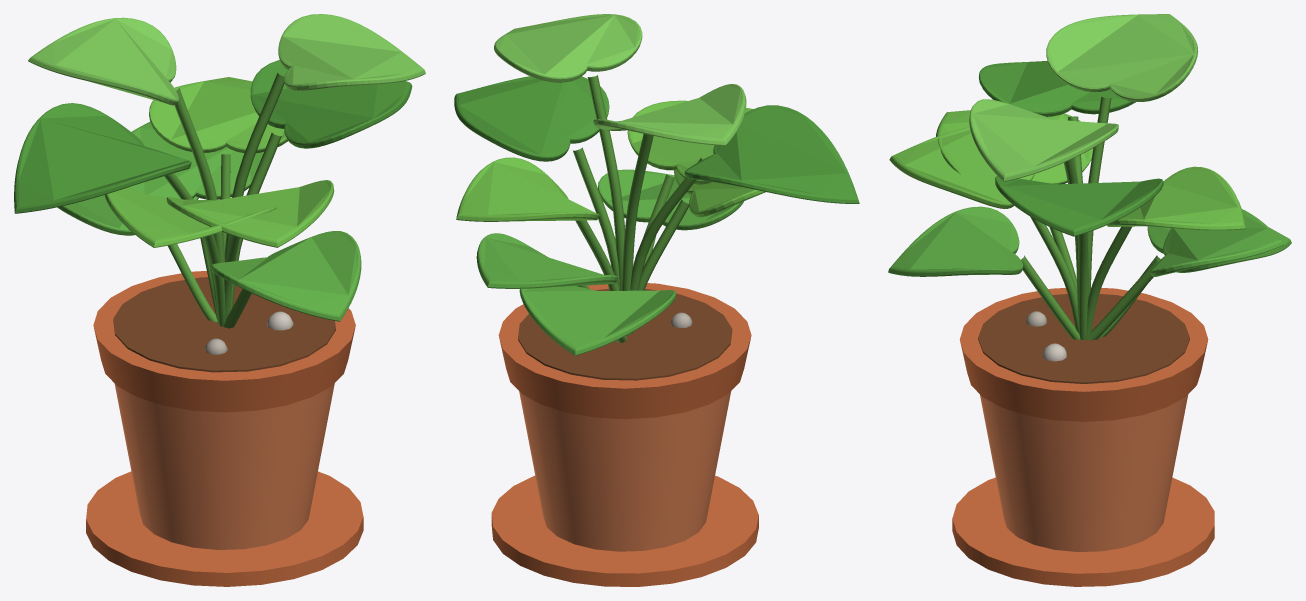
Rendered from plant.glb.
3 renders of one model, left to right at view 1: azimuth 30°, elevation 25°; view 2: azimuth 150°, elevation 25°; view 3: azimuth 270°, elevation 25°, orthographic. The views are drawn at different scales.
Size of the model in its own units: 1.22 by 1.37 by 1.1.
